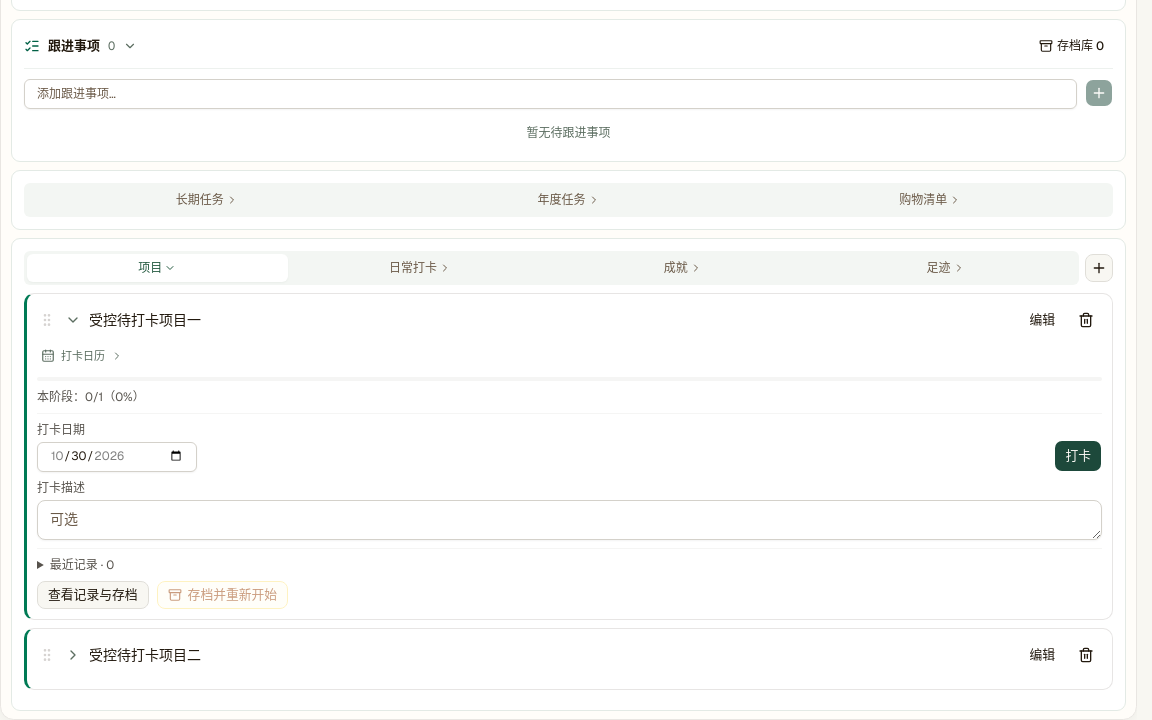
TaskDashboard task list sections › keeps focus after a controlled checked project collapses and moves
(page scrolled)
Expected: the element that starts with "受控待打卡项目一" is shown, top-left (24, 293), bottom-right (1113, 620)
Click the button "打卡": (1078, 456) top-left (1054, 440), bottom-right (1102, 472)
(page scrolled)
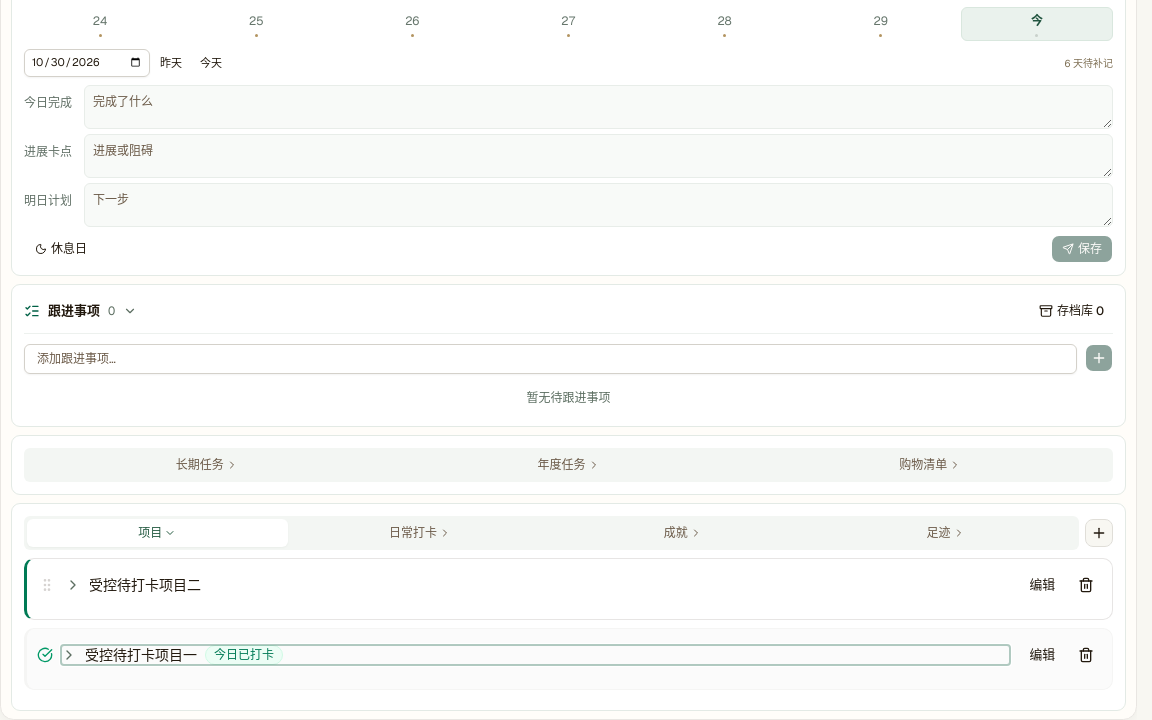
Expected: the element with test id "project-checkin-card" showing "受控待打卡项目一 今日已打卡 编辑" is shown, top-left (24, 628), bottom-right (1113, 690)
Expected: the button "打卡日历" is gone
Click the button with aria-label "展开项目 受控待打卡项目一": (141, 655) top-left (61, 645), bottom-right (1010, 665)
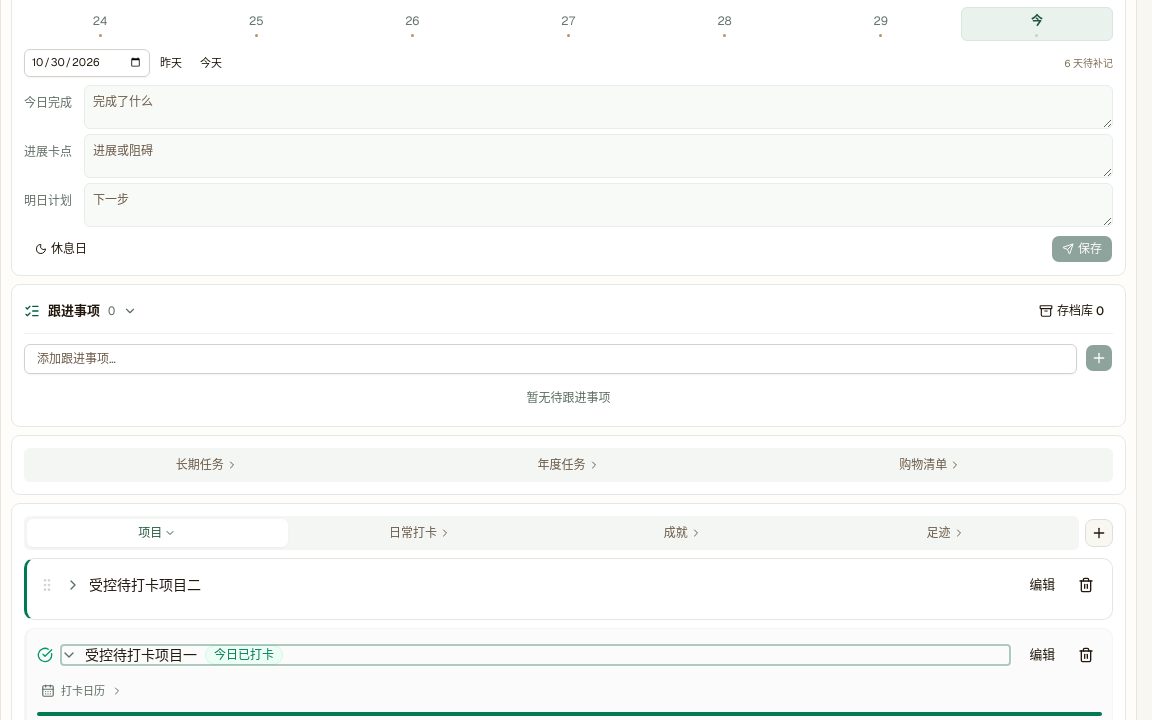
Expected: the button "打卡日历" is shown, top-left (37, 679), bottom-right (127, 704)
Click the button with aria-label "折叠项目 受控待打卡项目一": (141, 655) top-left (61, 645), bottom-right (1010, 665)
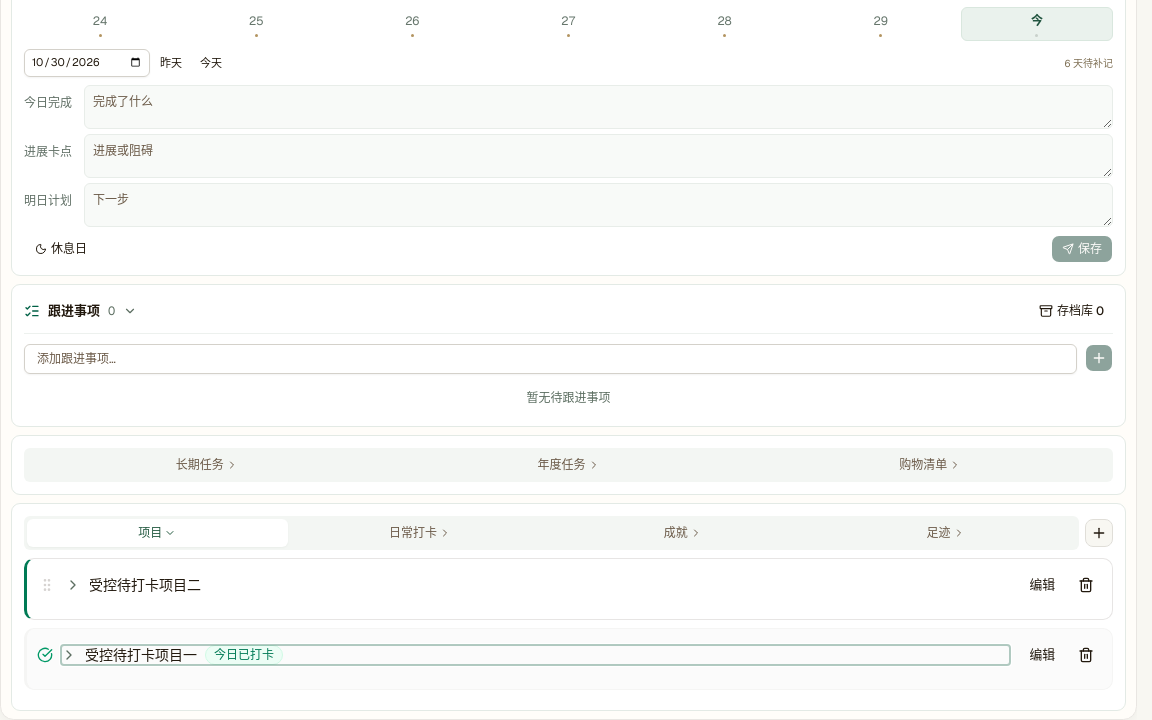
Expected: the button "打卡日历" is gone
